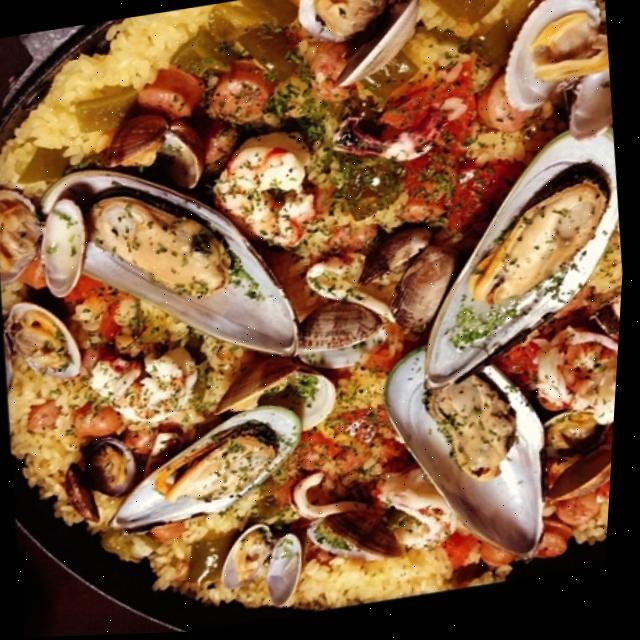熟制海鲜: (0, 43, 591, 628)
